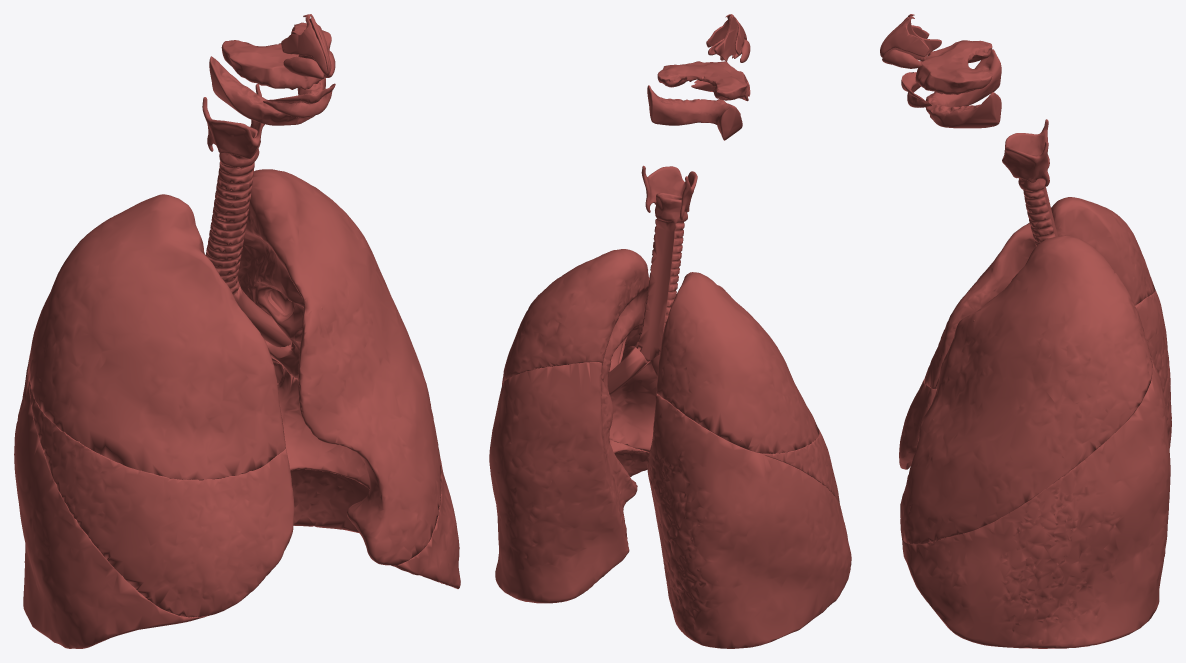
The model's file is respiratory.glb.
The picture shows the model from 3 angles, left to right: view 1: azimuth 30°, elevation 25°; view 2: azimuth 150°, elevation 25°; view 3: azimuth 270°, elevation 25°; orthographic projection. The views are drawn at different scales.
Visible parts, largest first — view 1: FMA7333, FMA7370, FMA7383, FMA7337, FMA7371, FMA7394, FMA59763, FMA59764, FMA71704, FMA55099, FMA59815nsn, FMA7409; view 2: FMA7337, FMA7371, FMA7333, FMA7370, FMA7394, FMA59764, FMA59763, FMA7383, FMA55099, FMA71704, FMA7409; view 3: FMA7370, FMA7371, FMA7333, FMA59763, FMA59764, FMA7337, FMA55099, FMA71704, FMA7394, FMA7383, FMA59815nsn.
Boxes of the visible parts, x1,y1,x2,y2 form: FMA7333: (28,194,285,480); FMA7370: (237,169,441,565); FMA7383: (28,380,294,617); FMA7337: (14,356,206,648); FMA7371: (271,356,460,588); FMA7394: (205,126,259,295); FMA59763: (221,22,331,89); FMA59764: (209,56,325,125); FMA71704: (281,14,335,79); FMA55099: (202,84,264,158); FMA59815nsn: (263,83,335,117); FMA7409: (233,285,322,347); FMA7337: (647,393,851,648); FMA7371: (489,362,649,603); FMA7333: (656,272,819,453); FMA7370: (502,249,657,452); FMA7394: (635,193,687,361); FMA59764: (647,85,742,140); FMA59763: (657,61,747,100); FMA7383: (763,429,839,503); FMA55099: (641,165,697,220); FMA71704: (706,14,750,62); FMA7409: (608,346,741,441); FMA7370: (900,235,1152,544); FMA7371: (902,357,1170,648); FMA7333: (924,197,1155,389); FMA59763: (915,40,992,94); FMA59764: (925,49,1001,128); FMA7337: (1135,290,1171,448); FMA55099: (1002,119,1049,186); FMA71704: (880,14,941,68); FMA7394: (1018,155,1057,246); FMA7383: (899,380,936,469); FMA59815nsn: (901,72,931,107).
Size of the model in its own units: 0.2534 by 0.4079 by 0.1936.
